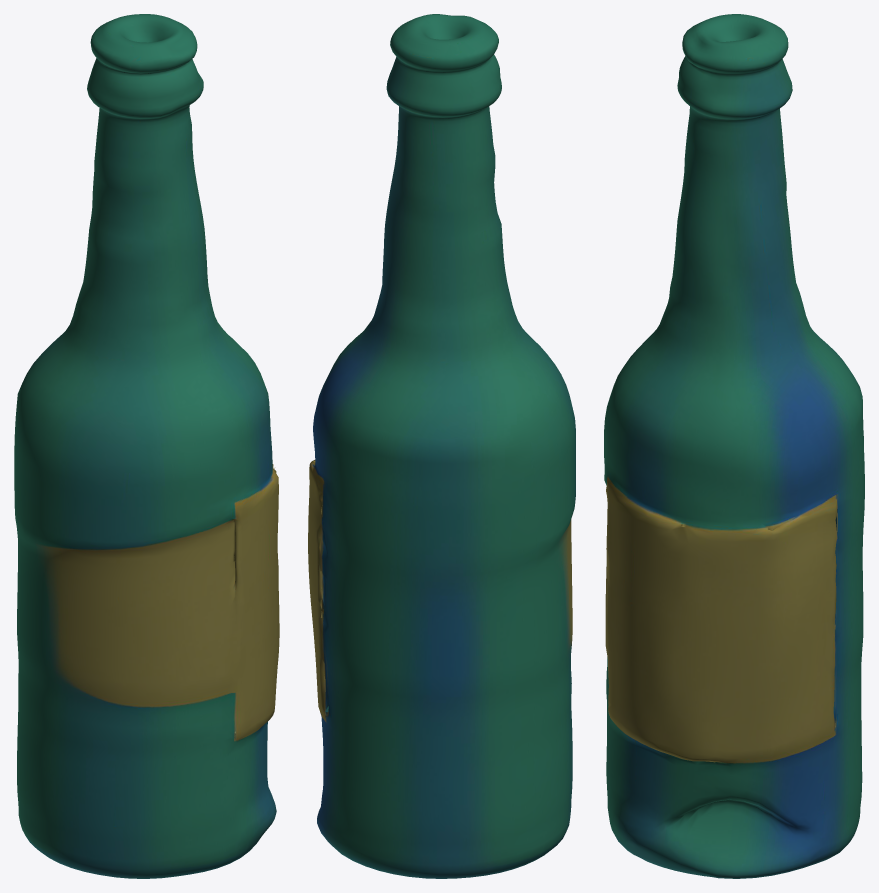
The model's file is flaske.fbx.
3 renders of one model, left to right at view 1: azimuth 30°, elevation 25°; view 2: azimuth 150°, elevation 25°; view 3: azimuth 270°, elevation 25°, orthographic.
Parts seen in each view (by area): view 1: flaske; view 2: flaske; view 3: flaske.
Part boxes in pixels (x1,y1,x2,y2): flaske: (14,14,279,878); flaske: (308,14,575,878); flaske: (604,14,864,878).
Bounding box in the file's own units: 0.2908 × 0.9802 × 0.2875.
1 material, 1 textured.
